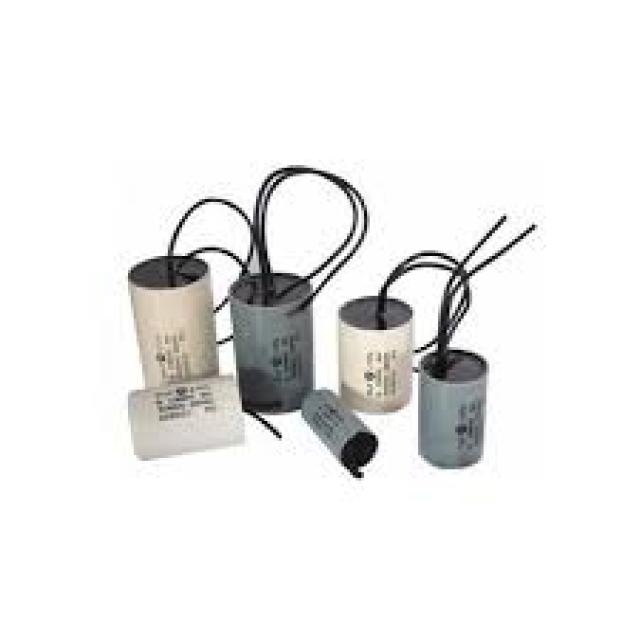Capacitor: (232, 278, 307, 412), (134, 260, 213, 370), (125, 384, 242, 457), (340, 293, 409, 415), (422, 355, 482, 467)
